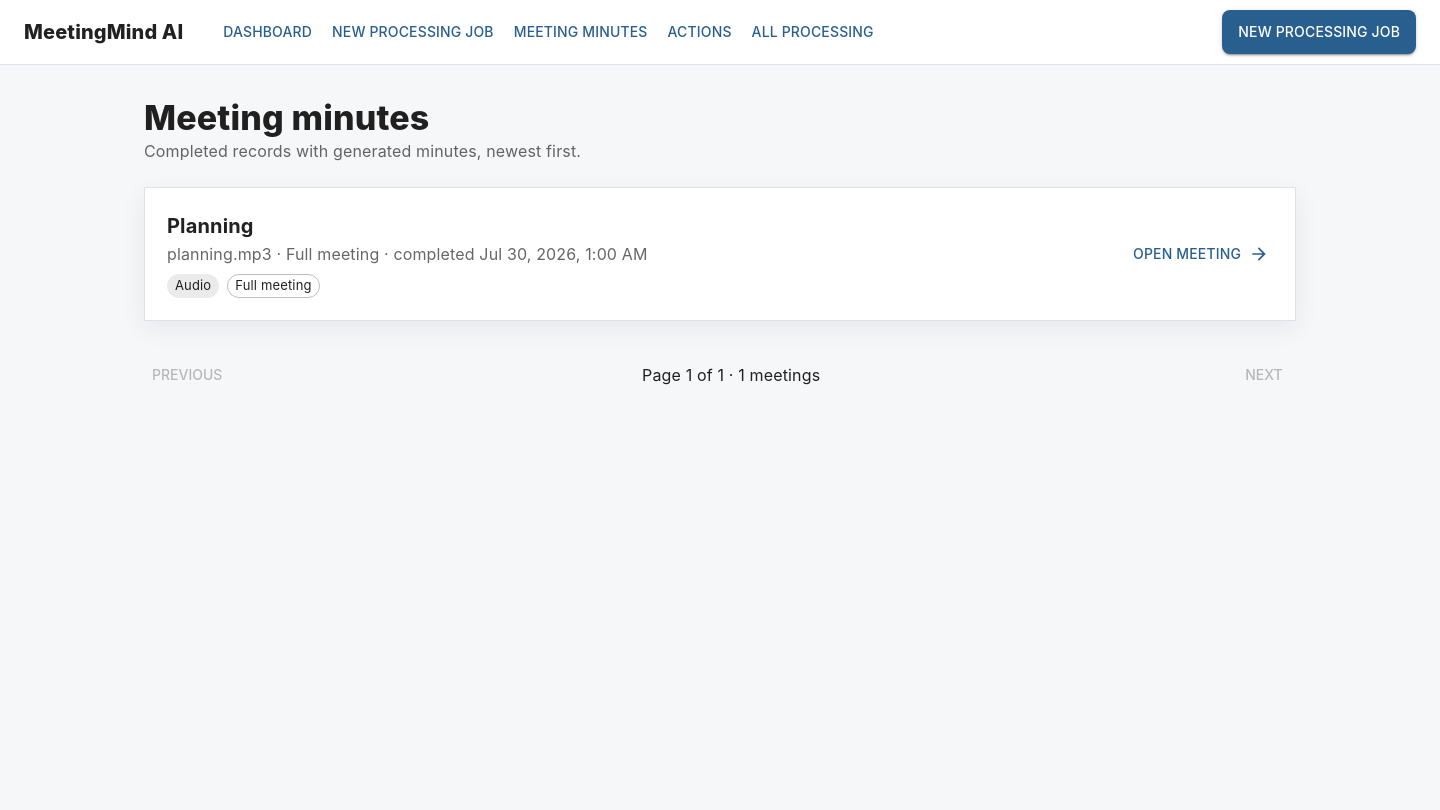
Scenario: application routes and dashboard › renders the minutes library and opens a deep-linked immutable detail
Click the link "Open meeting" at {"x": 1201, "y": 254}, box [1133,244,1269,264]
(page scrolled)
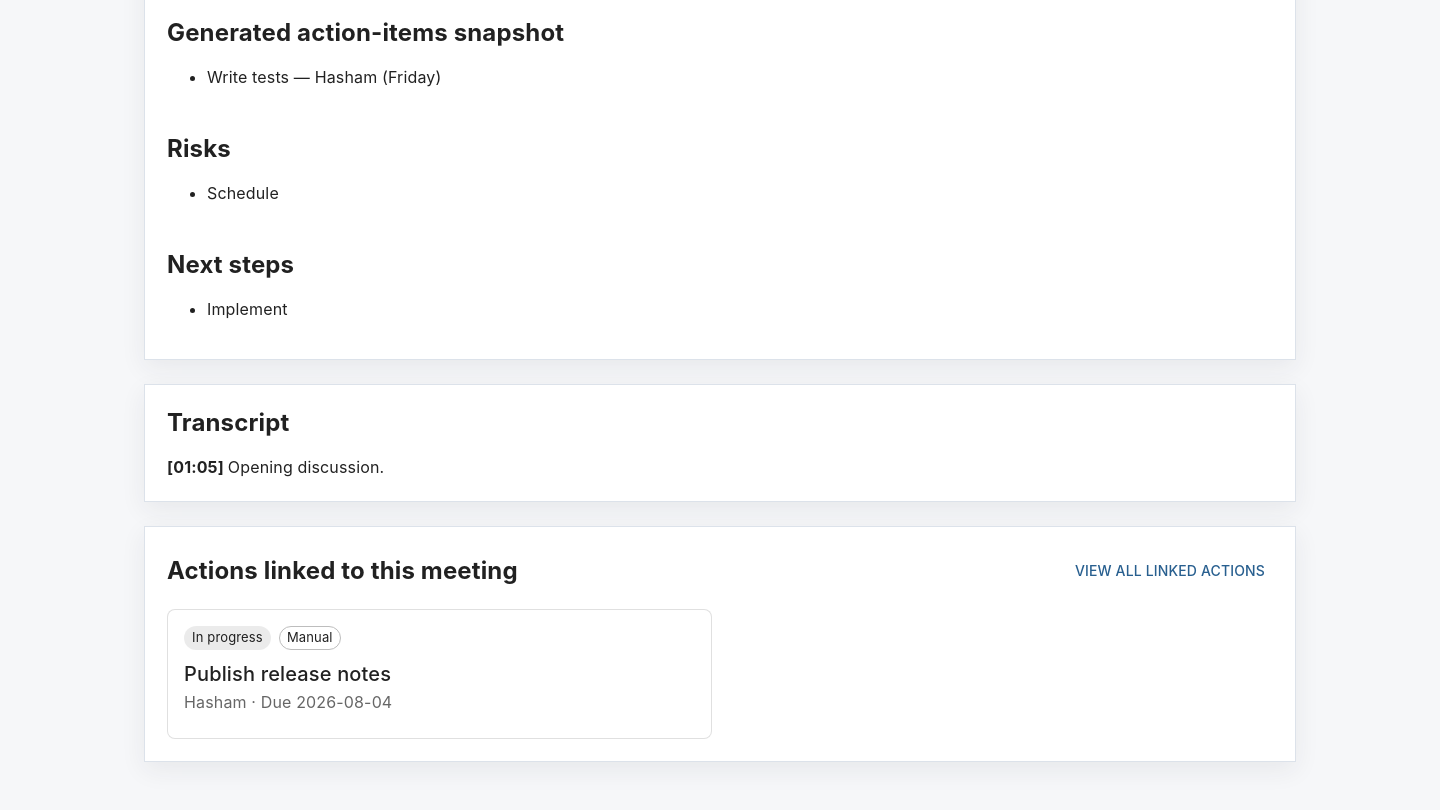
Now the heading "Generated action-items snapshot" is shown, box [167,18,564,47]
Now the text "[01:05]" is shown, box [167,457,228,477]
Now the heading "Publish release notes" is shown, box [184,662,391,686]
